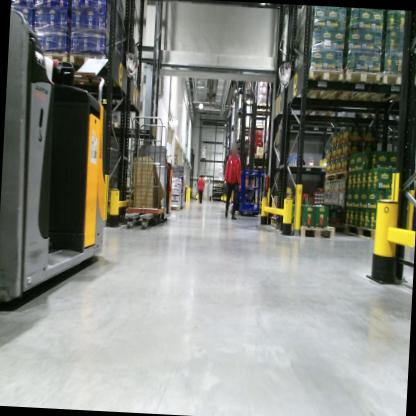forklift: (228, 95, 268, 221)
pallet: (329, 64, 383, 103), (292, 63, 342, 105), (66, 52, 122, 89), (278, 216, 339, 245), (371, 70, 416, 109), (340, 220, 397, 246), (300, 95, 345, 119), (37, 48, 73, 71), (323, 167, 352, 186), (103, 114, 125, 137), (245, 149, 267, 166), (253, 97, 270, 111), (169, 199, 186, 212)
pallet_truck: (112, 111, 180, 238)
